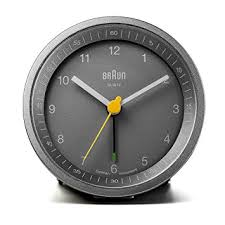alarm_clock: (21, 14, 209, 204)
